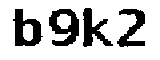2: (116, 7, 149, 48)
9: (45, 6, 81, 50)
k: (83, 6, 113, 50)
